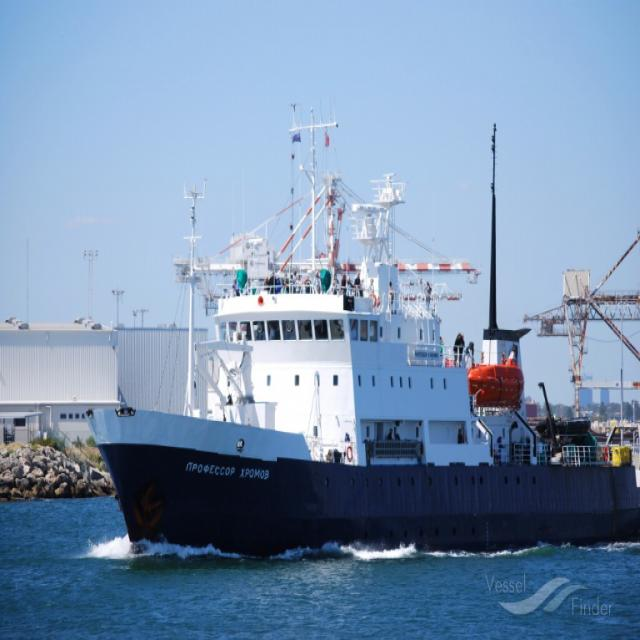OCR: (184, 446, 278, 486)
